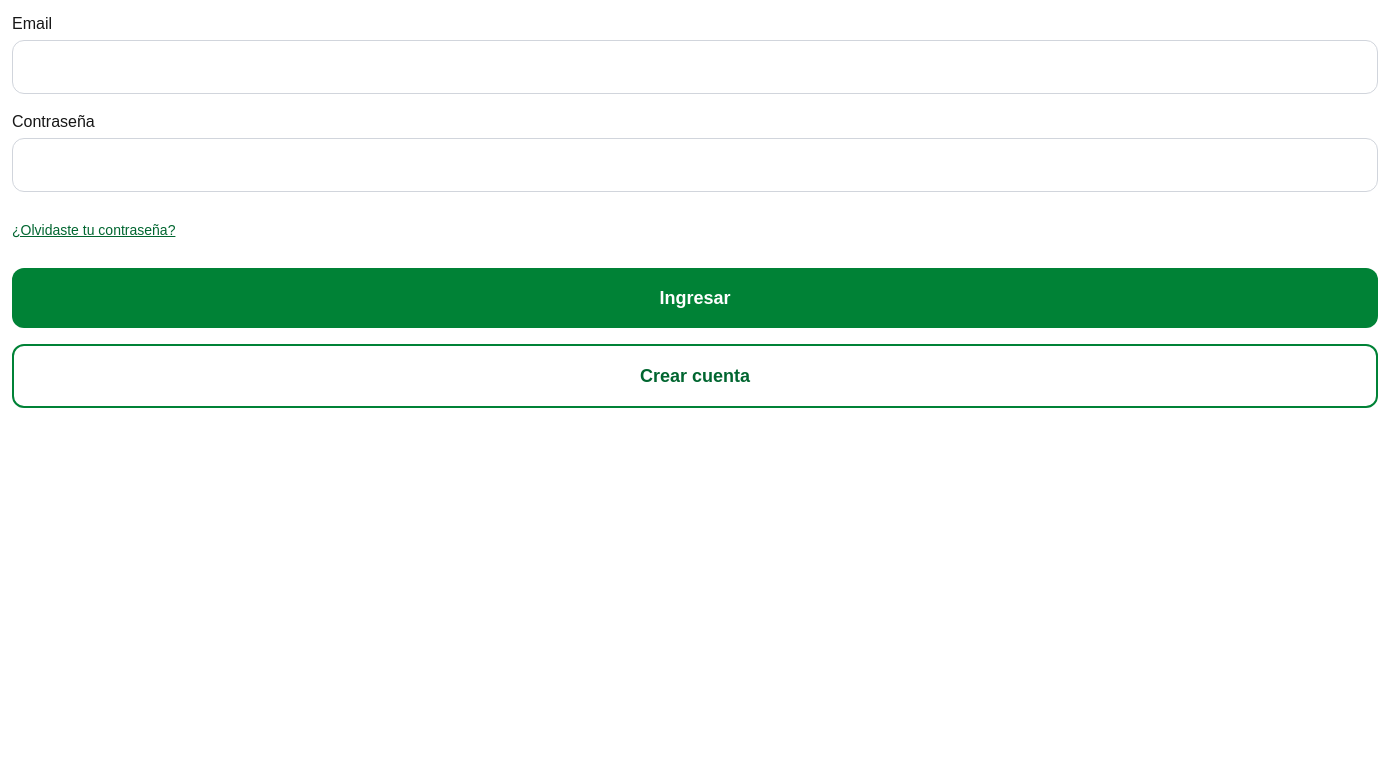
Scenario: LoginForm › cambia a registro y muestra nombre y código de invitación, sin partido
Click the button "Crear cuenta": (695, 376) left=12, top=344, right=1378, bottom=408
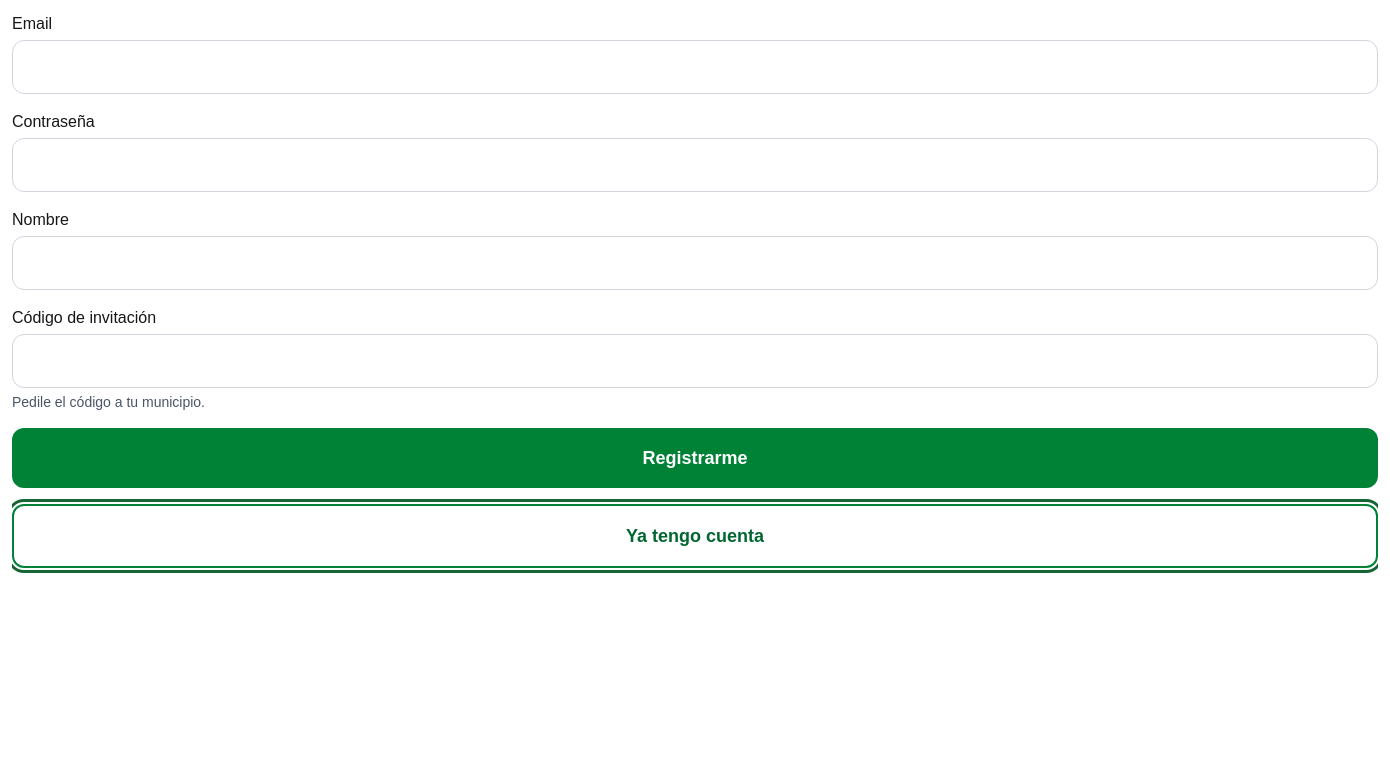
Now the field labelled "Nombre" is shown, box left=12, top=236, right=1378, bottom=290
Now the field labelled "Código de invitación Pedile el código a tu municipio." is shown, box left=12, top=334, right=1378, bottom=388
Now the button "Registrarme" is shown, box left=12, top=428, right=1378, bottom=488
